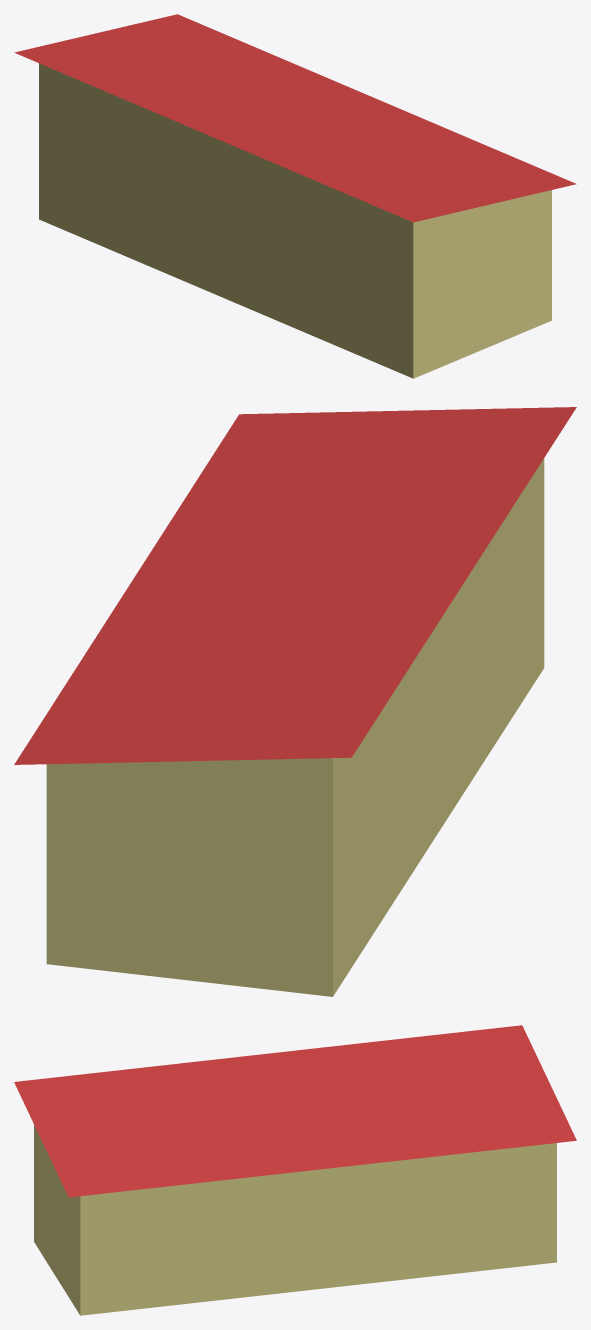
3 renders of one model, top to bottom at view 1: azimuth 30°, elevation 25°; view 2: azimuth 150°, elevation 25°; view 3: azimuth 270°, elevation 25°, orthographic. The views are drawn at different scales.
Bounding box in the file's own units: 20.86 × 34.42 × 10.44.
